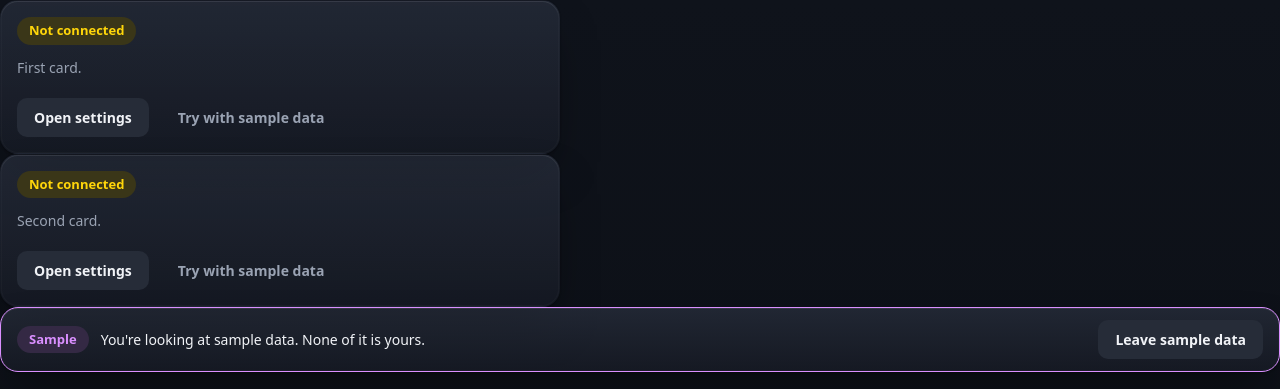
Scenario: one switch at a time › disables every sample button while entering is pending
Click the button "Try with sample data" below "First card." at {"x": 251, "y": 117}, box [161, 98, 341, 136]
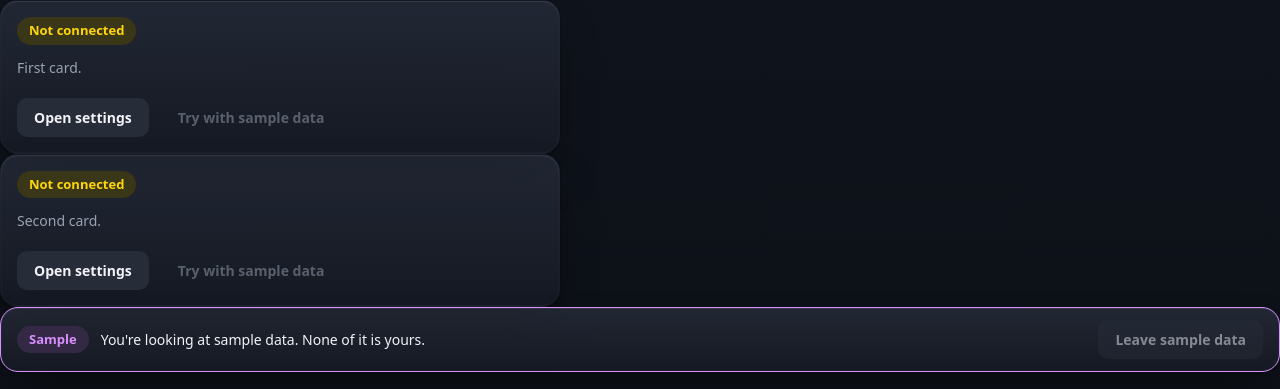
Result: the button "Try with sample data" below "Second card." is disabled
Result: the button "Leave sample data" is disabled at [1098, 320, 1263, 359]
Click the button "Try with sample data" below "Second card." at {"x": 251, "y": 270}, box [161, 251, 341, 290]
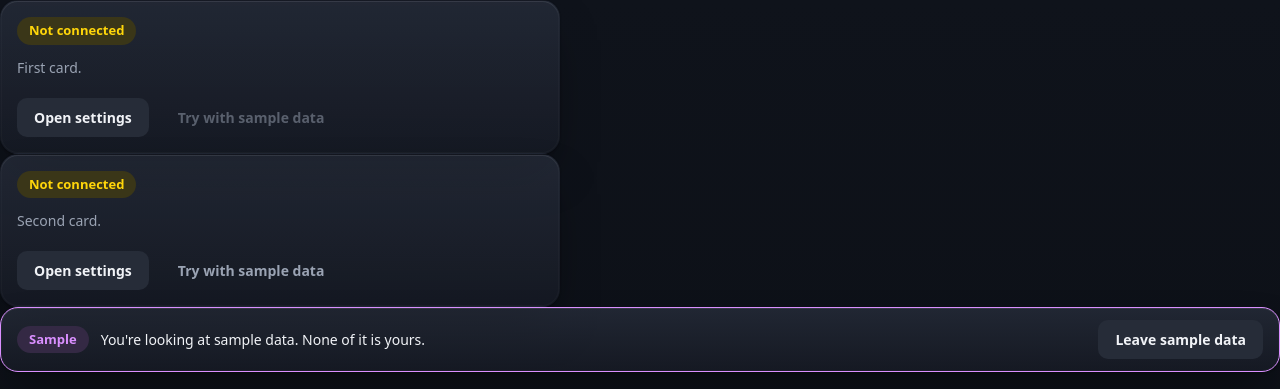
Result: the button "Leave sample data" is enabled at [1098, 320, 1263, 359]
